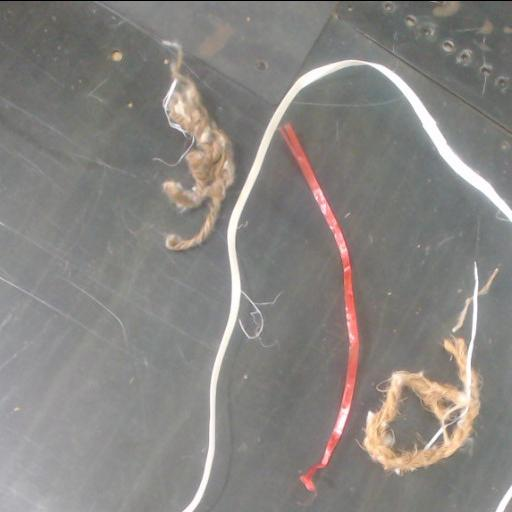conveyor belt: (0, 1, 511, 512), (198, 69, 511, 512)
jute: (156, 40, 235, 249), (361, 335, 480, 472)
thread: (182, 60, 511, 512), (279, 123, 359, 488)
